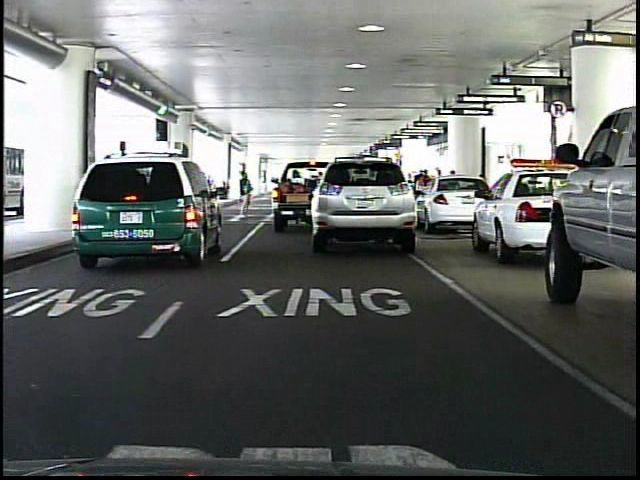person: (236, 168, 260, 223)
